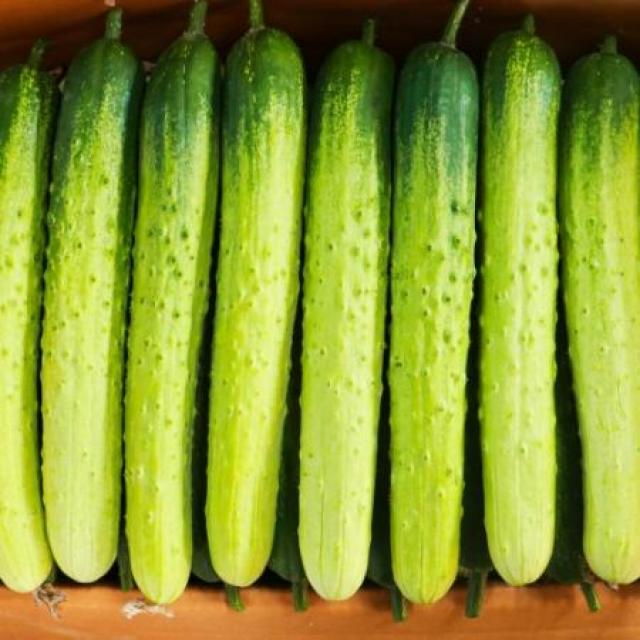cucumber: (0, 0, 640, 614), (231, 1, 328, 616), (392, 12, 485, 630), (50, 14, 138, 632), (558, 1, 640, 639)
